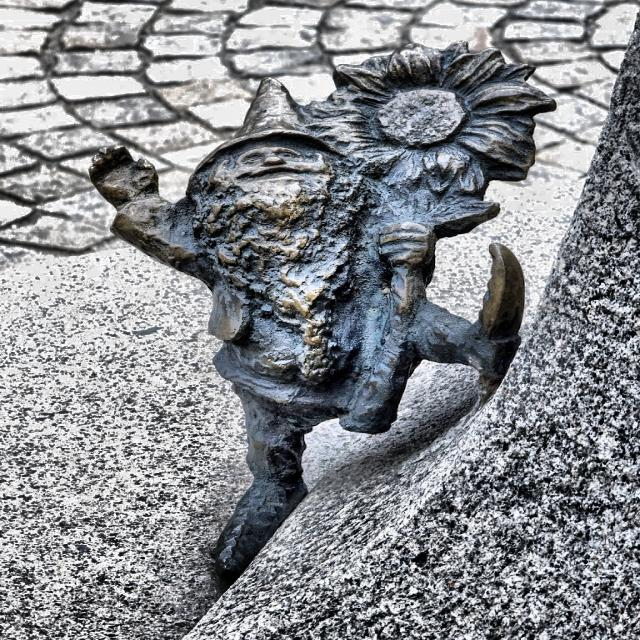Zyczliwek: (90, 45, 554, 579)
